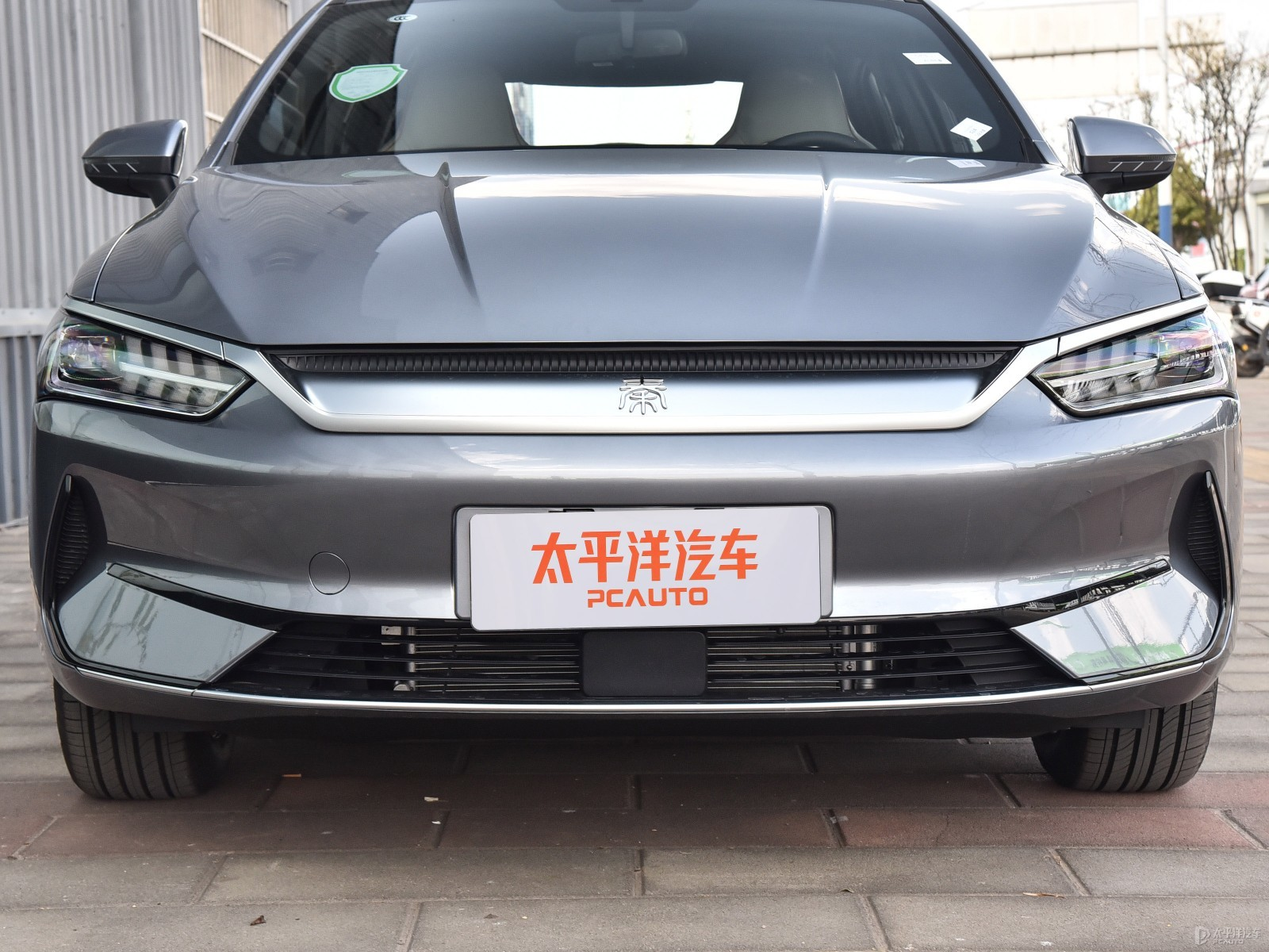BYD Qin: (619, 374, 667, 414)
